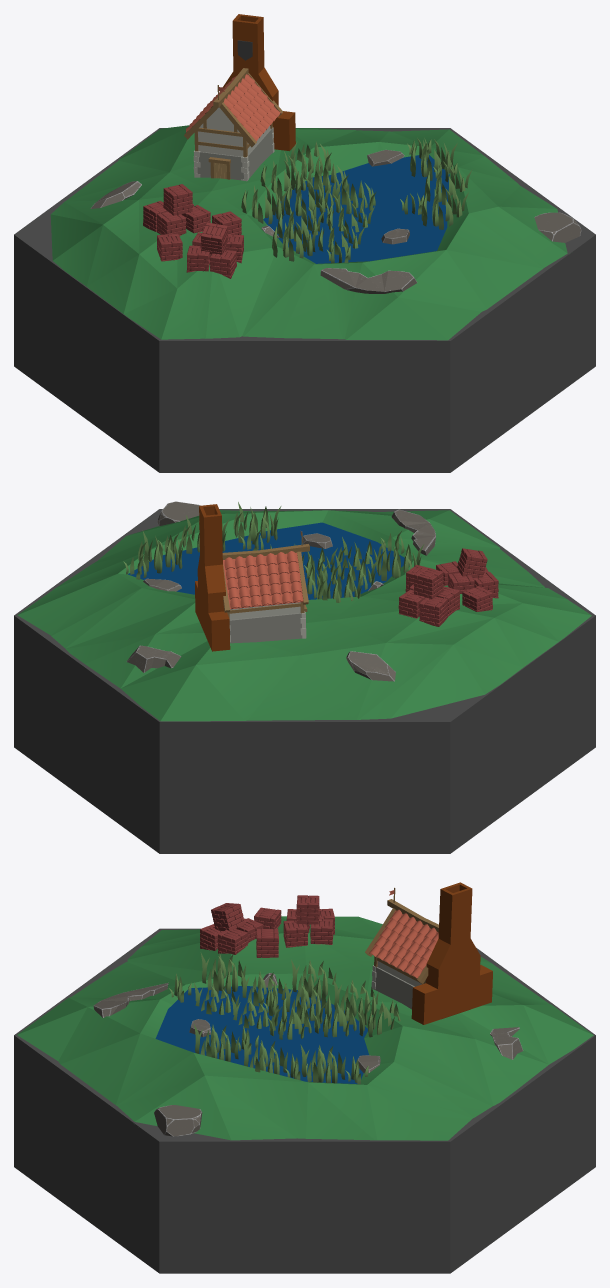
The model's file is clay.glb.
3 renders of one model, top to bottom at view 1: azimuth 30°, elevation 25°; view 2: azimuth 150°, elevation 25°; view 3: azimuth 270°, elevation 25°, orthographic.
Parts seen in each view (by area): view 1: Base_Tile, Ground, Water, Houses_SecondAge_1_Level3, FirePlace, Rock11, Rock9, Grass_Patch_0__0.010, Grass_Patch_0__0.008, Grass_Patch_0__0.012, Grass_Patch_0__0.005, Grass_Patch_0__0.002 (+12 smaller); view 2: Base_Tile, Ground, Houses_SecondAge_1_Level3, Water, FirePlace, Rock11, Rock2, Grass_Patch_0__0.012, Grass_Patch_0__0.010, Rock5, Grass_Patch_0__0.008, Cube_Bricks.005 (+8 smaller); view 3: Base_Tile, Ground, Water, FirePlace, Houses_SecondAge_1_Level3, Rock9, Grass_Patch_0__0.012, Grass_Patch_0__0.008, Grass_Patch_0__0.010, Rock11, Grass_Patch_0__0.001, Grass_Patch_0__0.011 (+15 smaller).
Boxes of the visible parts, x1,y1,x2,y2 form: Base_Tile: (14, 128, 595, 472); Ground: (50, 125, 567, 340); Water: (263, 155, 449, 263); Houses_SecondAge_1_Level3: (184, 68, 283, 181); FirePlace: (222, 14, 295, 151); Rock11: (320, 268, 417, 293); Rock9: (534, 212, 581, 242); Grass_Patch_0__0.010: (421, 188, 468, 229); Grass_Patch_0__0.008: (272, 222, 319, 261); Grass_Patch_0__0.012: (410, 139, 457, 180); Grass_Patch_0__0.005: (241, 185, 288, 224); Grass_Patch_0__0.002: (329, 180, 376, 214); Base_Tile: (14, 509, 595, 853); Ground: (17, 510, 591, 721); Houses_SecondAge_1_Level3: (222, 531, 309, 643); Water: (128, 522, 404, 599); FirePlace: (195, 504, 230, 651); Rock11: (391, 509, 435, 555); Rock2: (346, 651, 395, 681); Grass_Patch_0__0.012: (138, 530, 185, 573); Grass_Patch_0__0.010: (233, 502, 281, 544); Rock5: (126, 645, 181, 672); Grass_Patch_0__0.008: (376, 540, 424, 580); Cube_Bricks.005: (413, 567, 443, 598); Base_Tile: (14, 928, 595, 1273); Ground: (17, 916, 593, 1140); Water: (155, 986, 368, 1083); FirePlace: (411, 882, 492, 1024); Houses_SecondAge_1_Level3: (365, 887, 438, 1009); Rock9: (154, 1105, 202, 1136); Grass_Patch_0__0.012: (300, 1044, 345, 1083); Grass_Patch_0__0.008: (200, 952, 245, 994); Grass_Patch_0__0.010: (194, 1024, 239, 1061); Rock11: (93, 982, 168, 1017); Grass_Patch_0__0.001: (312, 995, 356, 1037); Grass_Patch_0__0.011: (242, 1039, 287, 1074).
Size of the model in its own units: 1.73 by 1.09 by 2.
54 materials, 18 textured.
